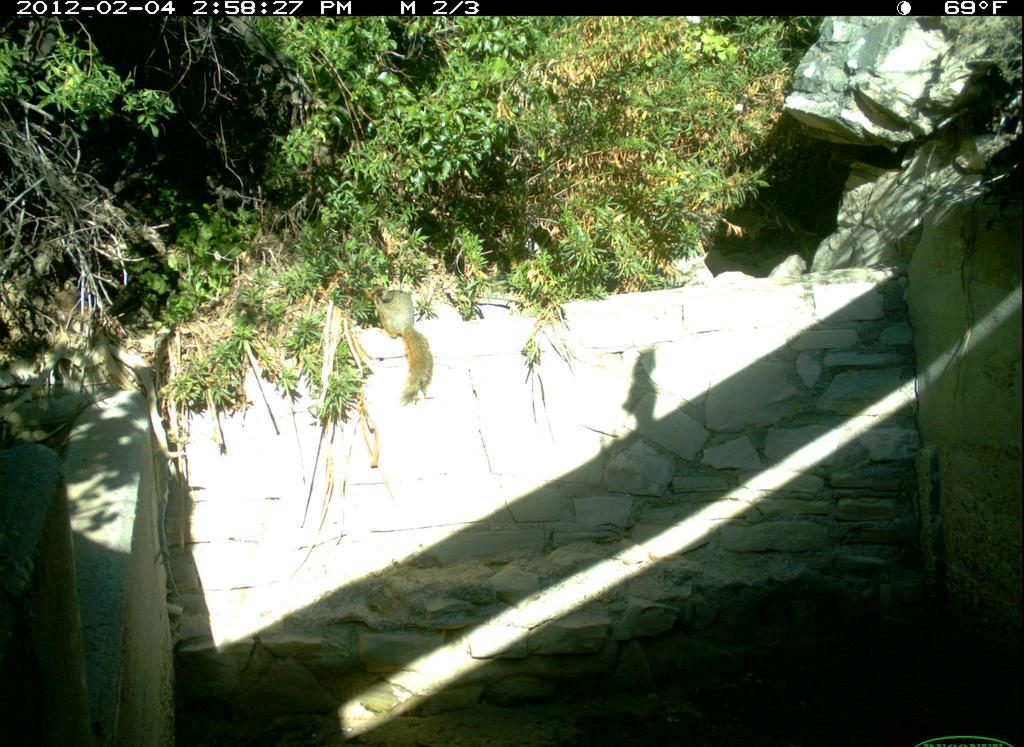squirrel: (356, 274, 441, 410)
